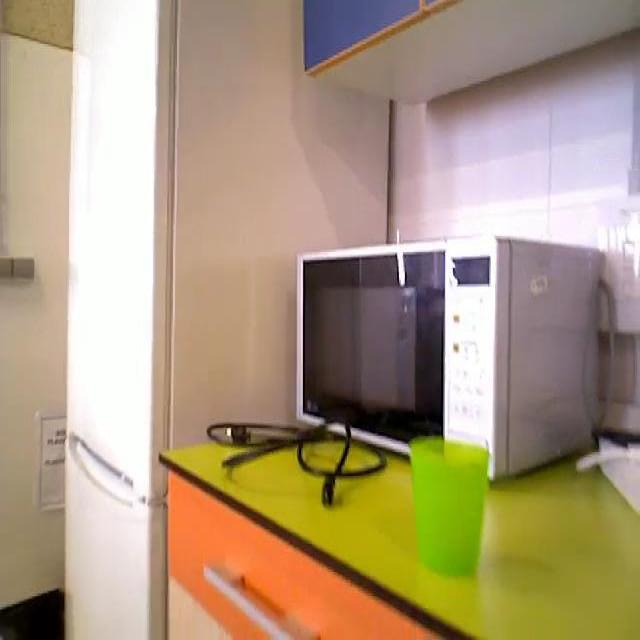cup: (408, 434, 494, 585)
